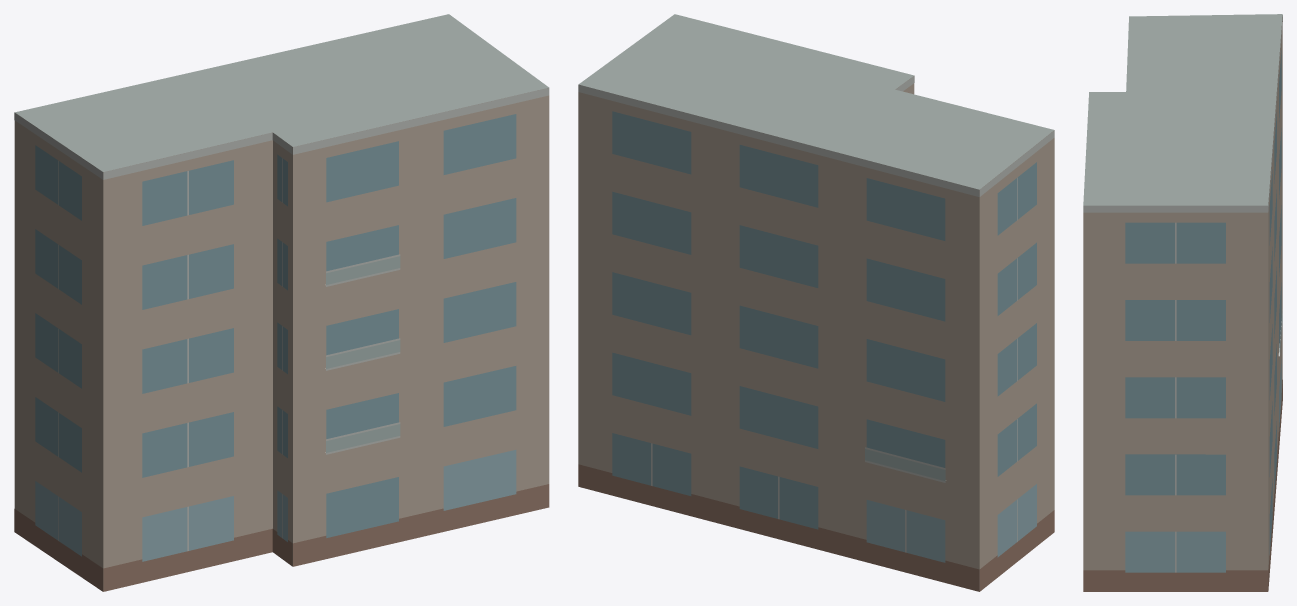
File: survey-upis-32980451.glb
The picture shows the model from 3 angles, left to right: view 1: azimuth 30°, elevation 25°; view 2: azimuth 150°, elevation 25°; view 3: azimuth 270°, elevation 25°; orthographic projection. The views are drawn at different scales.
Parts seen in each view (by area): view 1: survey-upis-32980451.tmp; view 2: survey-upis-32980451.tmp; view 3: survey-upis-32980451.tmp.
Part boxes in pixels (x1,y1,x2,y2): survey-upis-32980451.tmp: (14, 14, 549, 591); survey-upis-32980451.tmp: (578, 14, 1054, 591); survey-upis-32980451.tmp: (1083, 14, 1282, 591).
Bounding box in the file's own units: 13.95 × 13.1 × 6.14.
